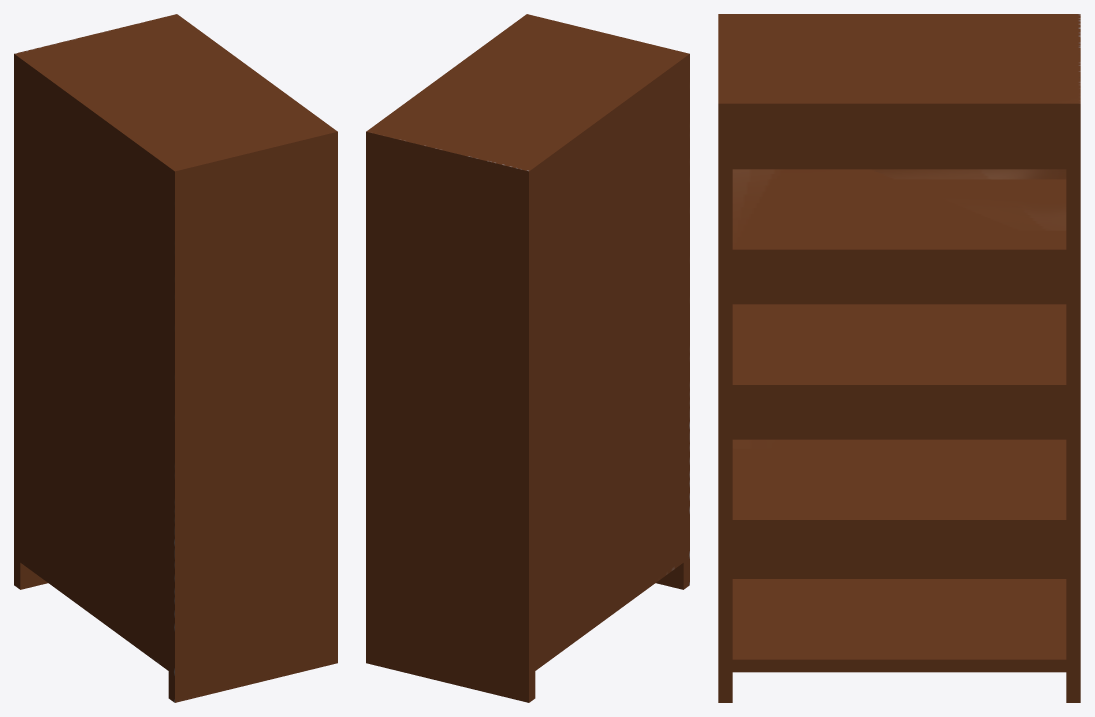
Rendered from tmp-bookcase.glb.
3 renders of one model, left to right at view 1: azimuth 30°, elevation 25°; view 2: azimuth 150°, elevation 25°; view 3: azimuth 270°, elevation 25°, orthographic. The views are drawn at different scales.
Parts seen in each view (by area): view 1: Cube; view 2: Cube; view 3: Cube.
Part boxes in pixels (left/top/right/bottom): Cube: left=14, top=14, right=337, bottom=702; Cube: left=366, top=14, right=689, bottom=702; Cube: left=718, top=14, right=1080, bottom=702.
Size of the model in its own units: 9.67 by 30.14 by 16.52.
Materials: 1 (1 with a texture image).
